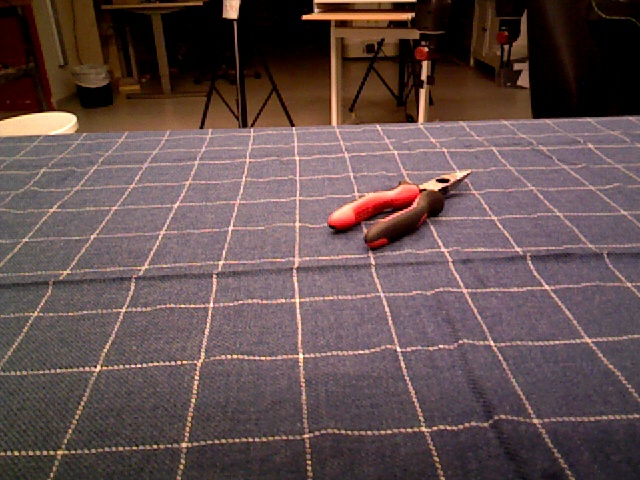plier1: (325, 166, 475, 250)
